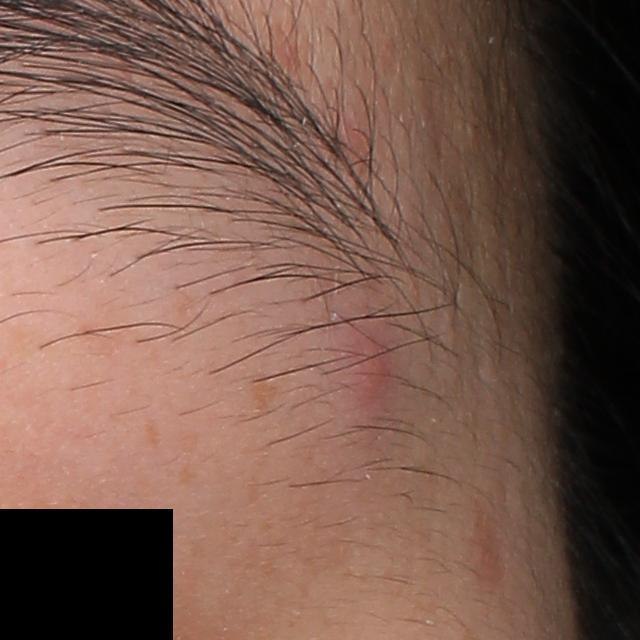melasma: (248, 375, 282, 418), (142, 414, 160, 450)
papule: (349, 341, 393, 395)
